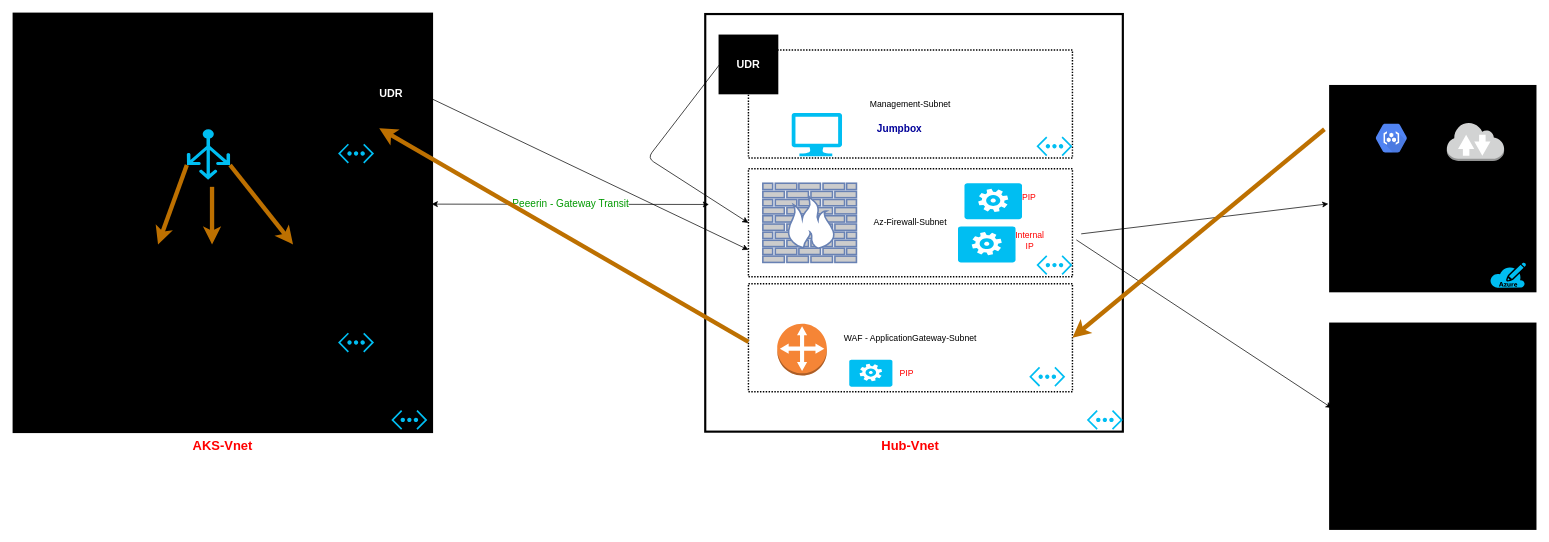
The diagram is 1549 pixels wide and 542 high, and some of its shapes have lost their labels. Each missing label, with the centre of its shape:
Azure MAnaged Account: point (1432, 426)
Container Registry: point (1391, 138)
